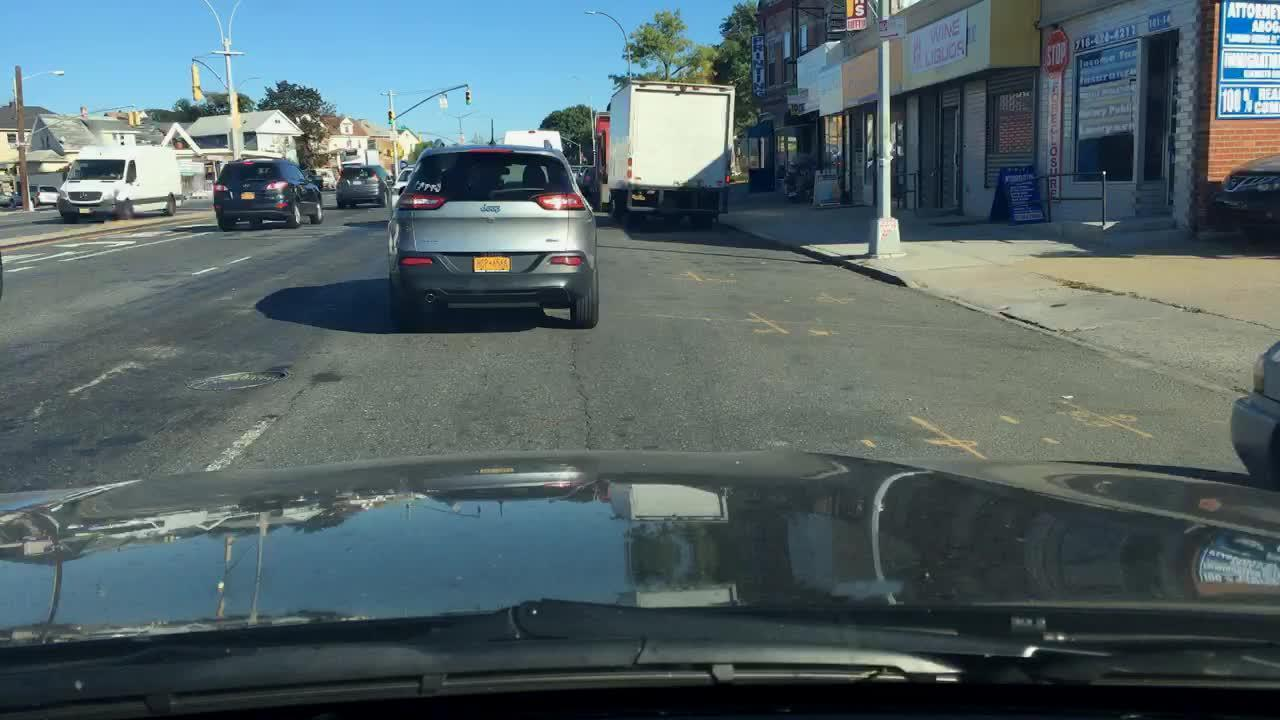jeep: (478, 200, 503, 215)
